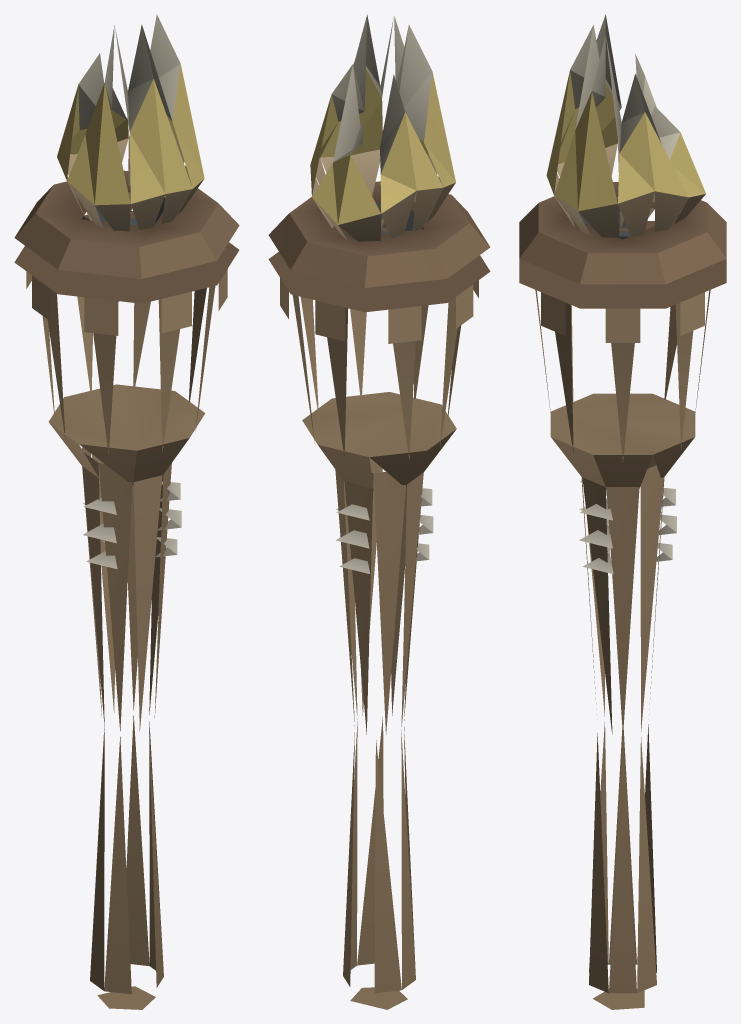
Rendered from torch.lod.glb.
The picture shows the model from 3 angles, left to right: view 1: azimuth 30°, elevation 25°; view 2: azimuth 150°, elevation 25°; view 3: azimuth 270°, elevation 25°; orthographic projection.
Parts seen in each view (by area): view 1: torch; view 2: torch; view 3: torch.
Boxes of the visible parts, x1=… form: torch: x1=14, y1=14, x2=239, y2=1009; torch: x1=268, y1=14, x2=490, y2=1009; torch: x1=519, y1=14, x2=726, y2=1009.
Bounding box in the file's own units: 0.2864 × 1.48 × 0.2864.
